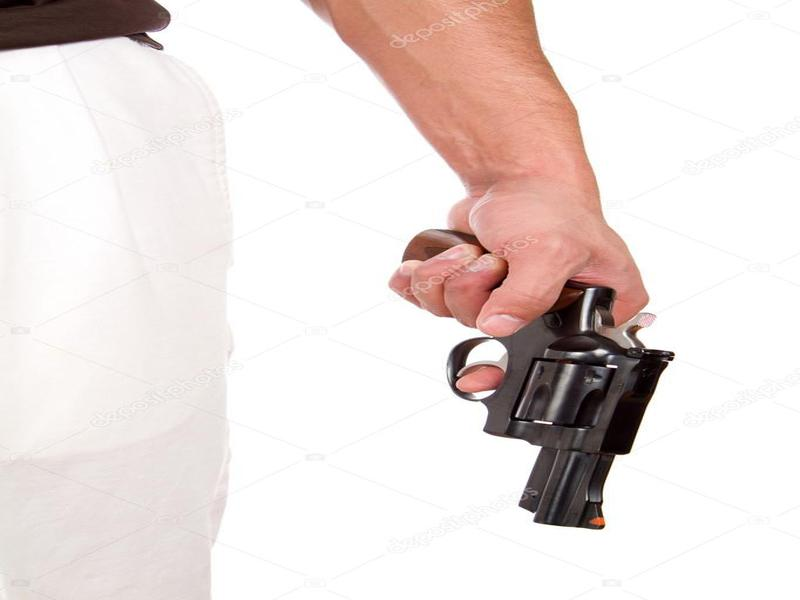Revolver: (401, 233, 665, 535)
